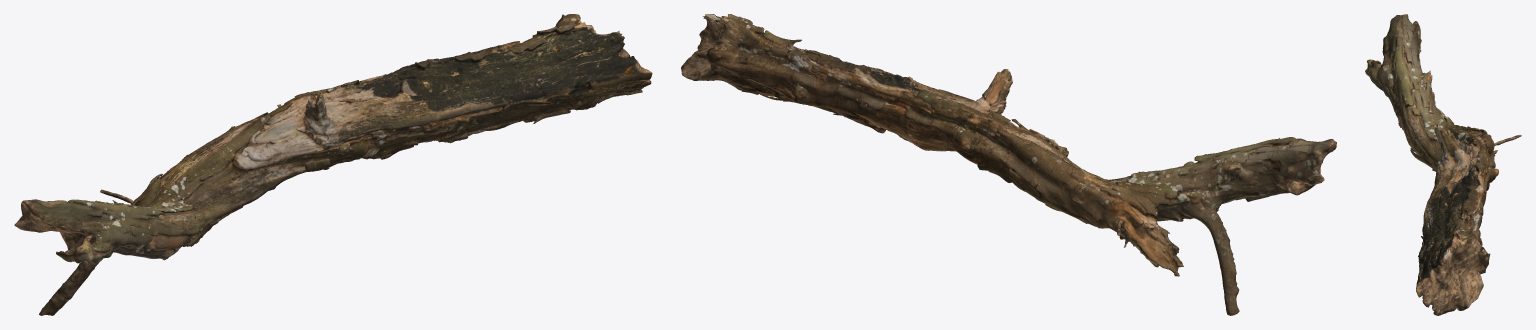
The model's file is dead_tree_trunk_02.gltf.
The picture shows the model from 3 angles, left to right: view 1: azimuth 30°, elevation 25°; view 2: azimuth 150°, elevation 25°; view 3: azimuth 270°, elevation 25°; orthographic projection. The views are drawn at different scales.
Parts seen in each view (by area): view 1: dead_tree_trunk_02; view 2: dead_tree_trunk_02; view 3: dead_tree_trunk_02.
Boxes of the visible parts, x1,y1,x2,y2 form: dead_tree_trunk_02: (14, 14, 652, 315); dead_tree_trunk_02: (681, 14, 1336, 315); dead_tree_trunk_02: (1365, 14, 1521, 315).
Size of the model in its own units: 4.05 by 1.06 by 1.06.
Materials: 1 (1 with a texture image).
